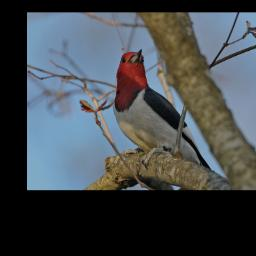Woodpecker: (108, 42, 219, 185)
